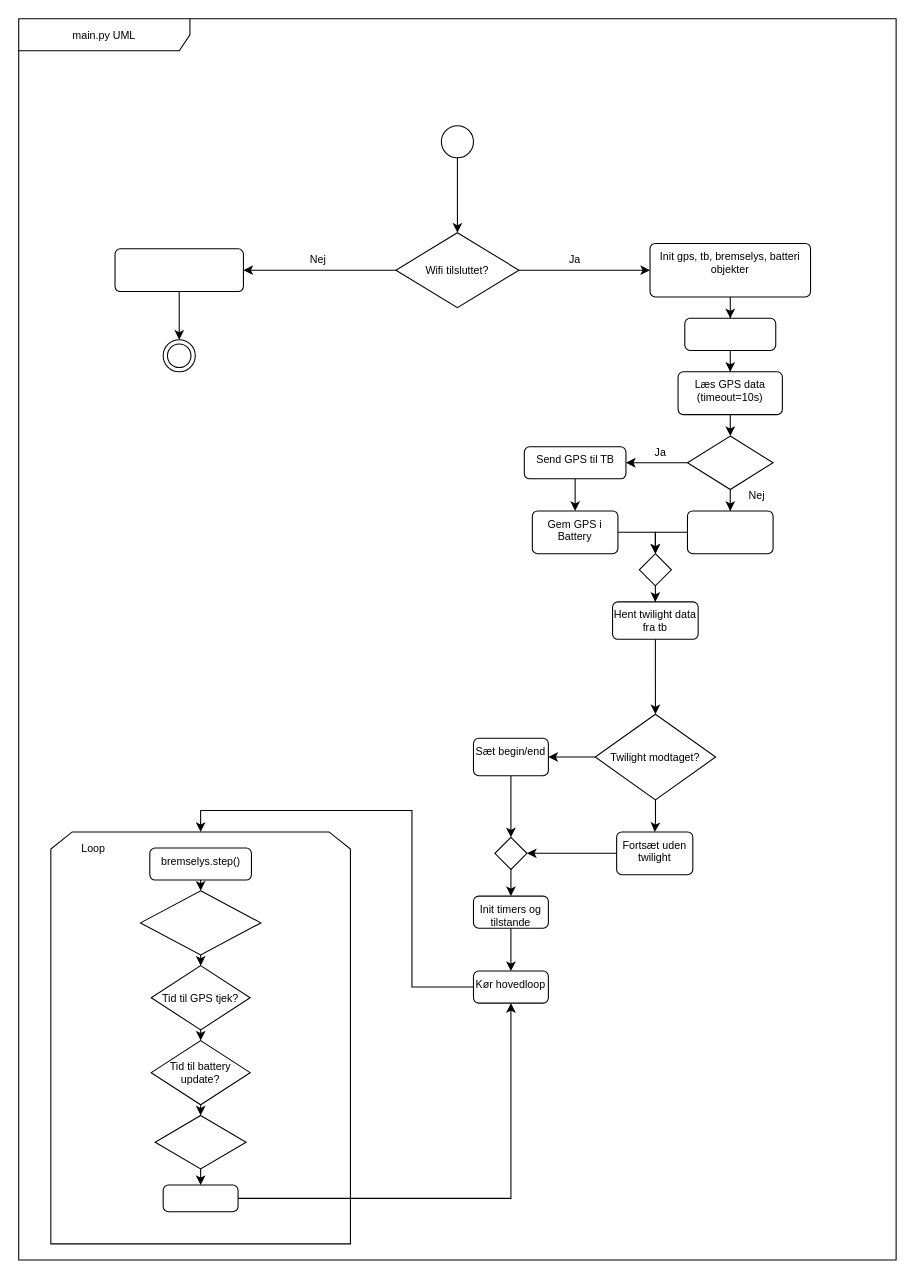
Image size: 915x1279. Some labels were removed from this diagram. Each missing label, with the centre of its shape:
Forbind til tb: the point at 730,333
Fortsæt uden GPS: the point at 729,532
GPS valid?: the point at 729,462
print("Fejl: Wifi ikke forbundet."): the point at 178,270
Start: the point at 456,141
Tid til tb update?: the point at 200,1141
Tyverialarm aktiv og tid gået?: the point at 200,922
Vent 0.1 sek: the point at 200,1198
